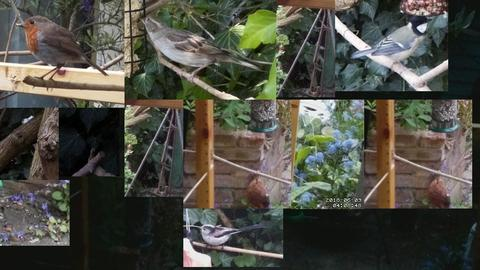great tit: (350, 15, 433, 76)
long tailed tit: (198, 224, 268, 251)
robin: (15, 15, 110, 93)
sparrow: (140, 15, 261, 85)
